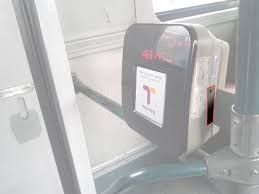terminal: (118, 20, 227, 159)
